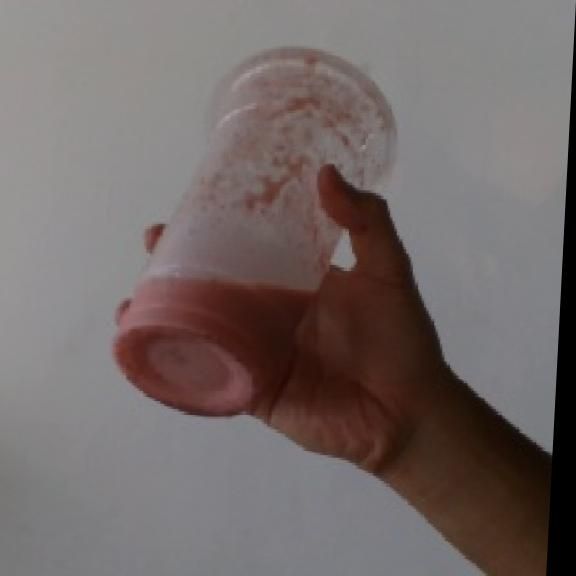Plastik: (115, 49, 371, 414)
